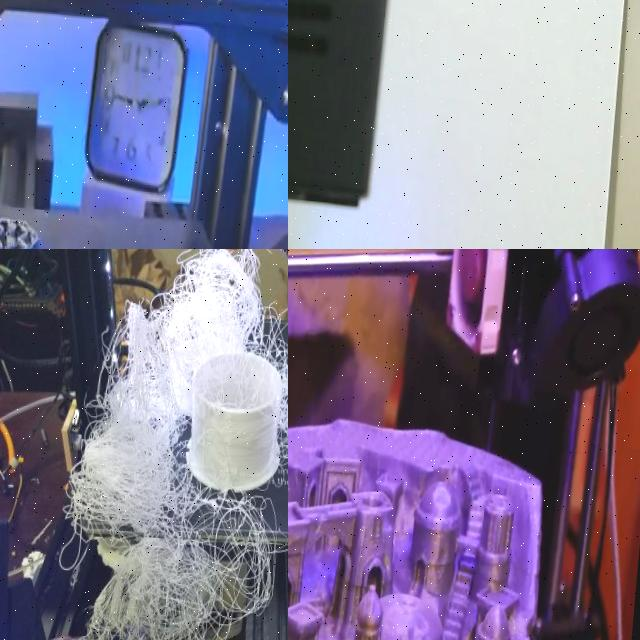spaghetti: (29, 249, 288, 640)
